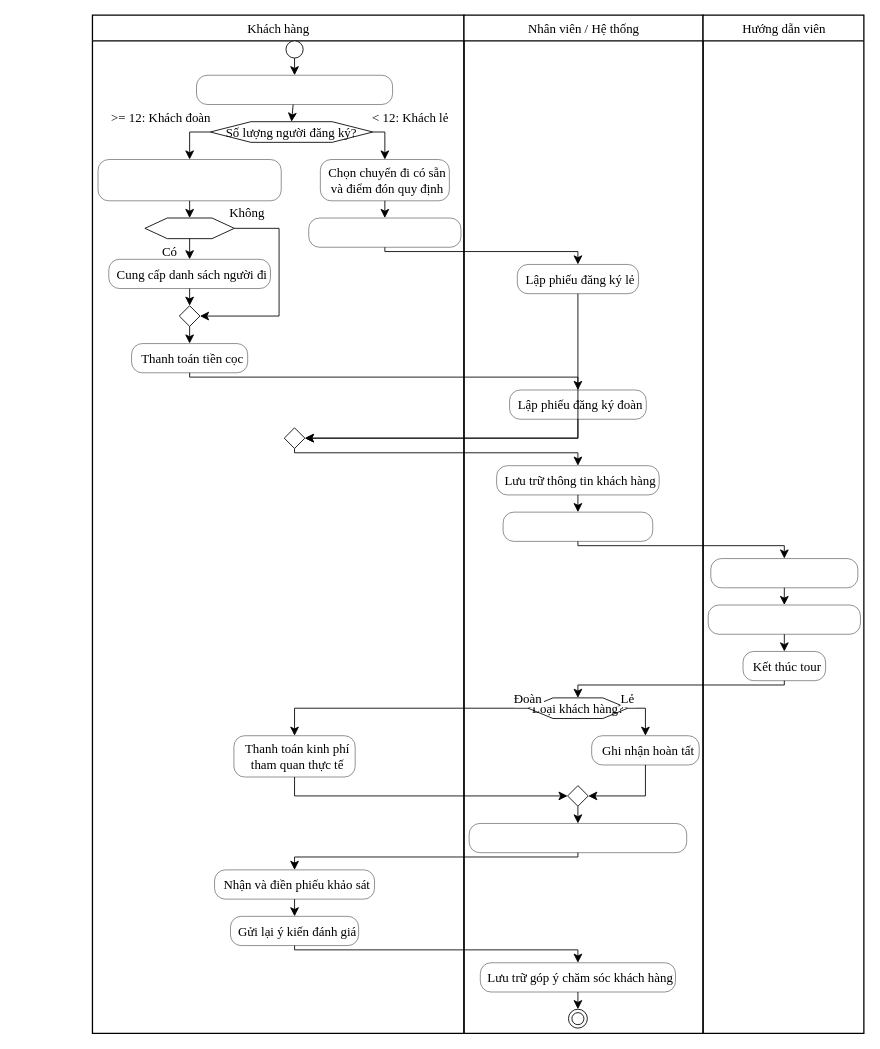
Image size: 880x1049. Some labels were removed from this diagram. The shapes that lost their labels are listed below. From the top down, each one's centre as x and y in pixels, then its label:
At point 294,89: "Lựa chọn tour và hình thức đăng ký".
At point 189,180: "Nhập thông tin cơ quan/đại diện, chọn ngày đi và nơi đón".
At point 189,228: "Mua bảo hiểm?".
At point 384,232: "Thanh toán toàn bộ tiền vé".
At point 577,526: "Phân công Hướng dẫn viên".
At point 784,573: "Tiếp nhận lịch phân công".
At point 784,619: "Thực hiện dẫn tour du lịch".
At point 578,838: "Hệ thống gửi phiếu khảo sát (qua Email)".
